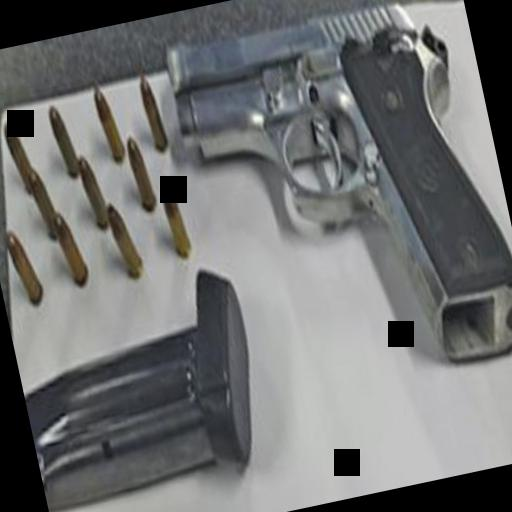Handgun: (151, 0, 512, 417)
